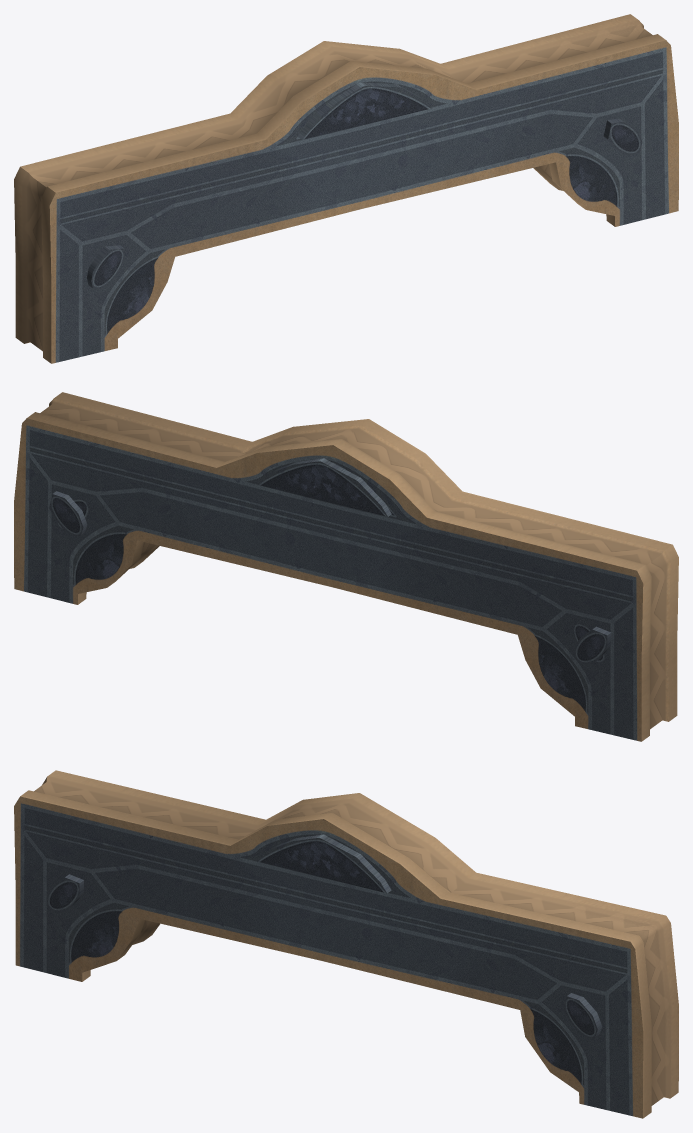
The model's file is SM_Half_Arch.fbx.
3 views of the same model, one above another, from view 1: azimuth 30°, elevation 25°; view 2: azimuth 150°, elevation 25°; view 3: azimuth 330°, elevation 25° (orthographic).
Parts seen in each view (by area): view 1: Half_Arch; view 2: Half_Arch; view 3: Half_Arch.
Boxes of the visible parts, x1,y1,x2,y2 form: Half_Arch: (14,14,678,363); Half_Arch: (14,392,678,741); Half_Arch: (14,770,678,1118).
Bounding box in the file's own units: 1313 × 443 × 159.
